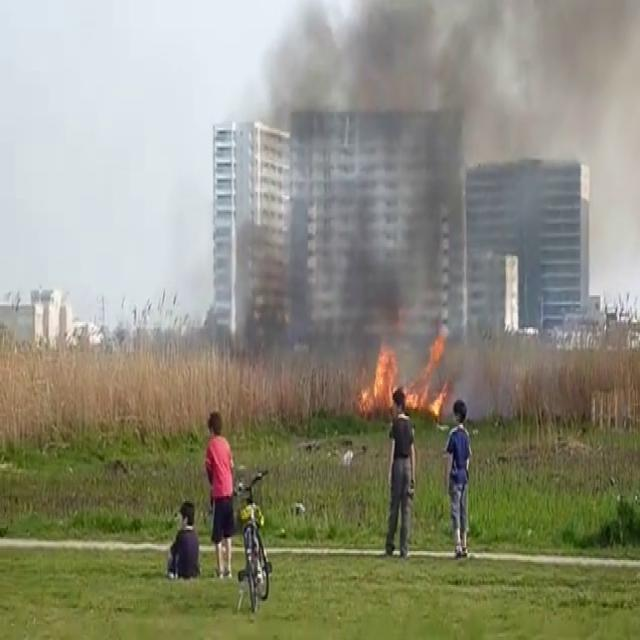Fire: (356, 327, 454, 420)
Smoke: (271, 0, 640, 373)
